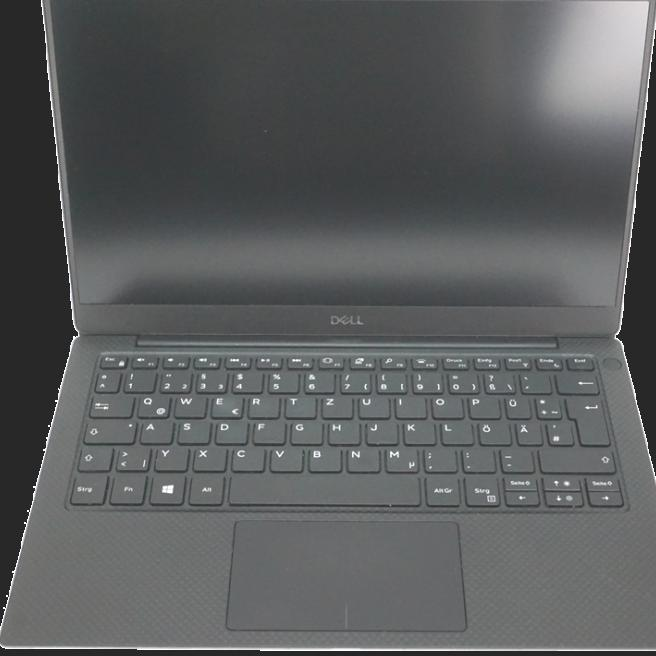0: (446, 370, 479, 393)
1: (123, 369, 155, 392)
2: (158, 370, 191, 392)
3: (194, 369, 226, 392)
4: (230, 370, 262, 392)
5: (266, 371, 298, 392)
6: (302, 371, 334, 392)
7: (338, 370, 371, 392)
8: (375, 370, 407, 393)
9: (410, 370, 443, 393)
a: (139, 419, 172, 443)
accent: (518, 371, 550, 393)
ae: (514, 420, 542, 445)
alt-left: (188, 472, 224, 505)
altgr-right: (424, 473, 459, 505)
b: (306, 446, 341, 471)
c: (229, 446, 265, 471)
caret: (93, 370, 119, 391)
comma: (422, 447, 456, 472)
d: (213, 420, 247, 444)
del: (555, 371, 598, 393)
e: (209, 394, 242, 417)
enter: (565, 395, 609, 445)
f: (251, 419, 285, 444)
g: (289, 420, 322, 444)
h: (326, 420, 360, 444)
hash: (545, 419, 573, 445)
i: (393, 394, 426, 418)
j: (363, 420, 397, 444)
k: (401, 420, 435, 445)
keyboard: (57, 343, 637, 515)
l: (438, 420, 473, 445)
less: (114, 445, 150, 471)
m: (383, 446, 418, 472)
minus: (498, 446, 534, 472)
n: (344, 446, 379, 472)
o: (430, 395, 463, 418)
oe: (476, 421, 510, 445)
p: (467, 394, 500, 418)
plus: (534, 394, 561, 418)
point: (460, 447, 495, 472)
q: (135, 394, 170, 417)
r: (246, 394, 279, 418)
s: (176, 419, 209, 443)
shift-left: (75, 445, 111, 471)
shift-lock: (82, 418, 136, 443)
shift-right: (537, 446, 615, 472)
space: (227, 473, 420, 505)
ss: (482, 371, 514, 393)
strg-left: (68, 472, 107, 504)
strg-right: (463, 473, 499, 505)
t: (283, 394, 315, 417)
tab: (88, 392, 133, 416)
u: (356, 395, 389, 418)
ue: (503, 395, 530, 418)
v: (268, 446, 303, 472)
w: (172, 393, 206, 417)
x: (191, 446, 226, 471)
y: (153, 445, 188, 471)
z: (319, 395, 352, 418)
